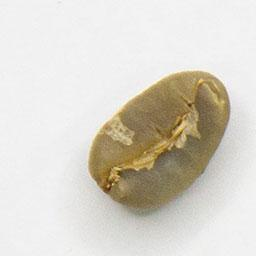premium: (85, 67, 234, 212)
